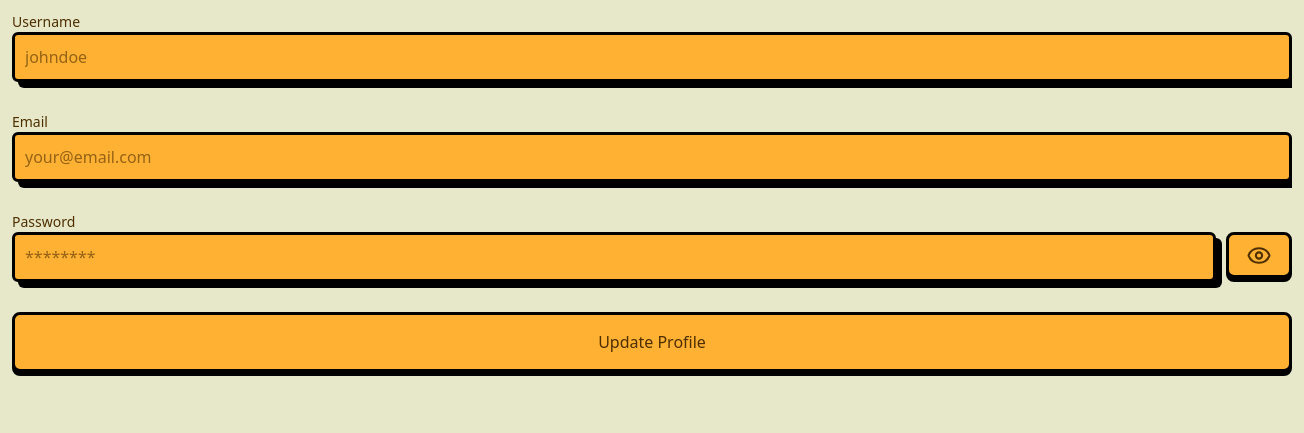
Scenario: UpdateProfileForm › validates weak password
Type "weakpass" into the password field labelled "Password" at point(614, 257), box [12,232,1216,282]
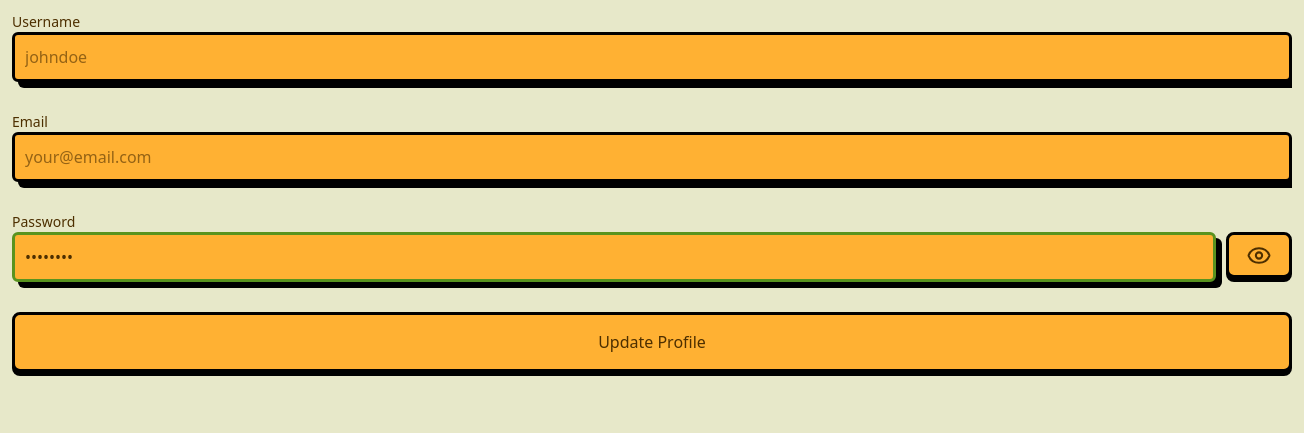
Click the button "Update Profile" at point(652, 342), box [12,312,1292,372]
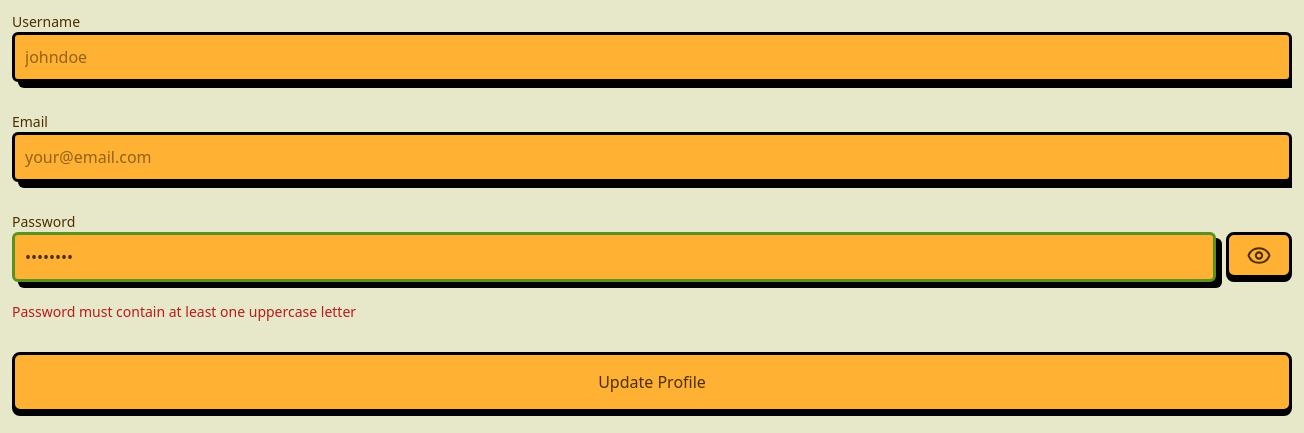
Expected: the text "Password must contain at least one uppercase letter" is shown, [12,302,356,321]
